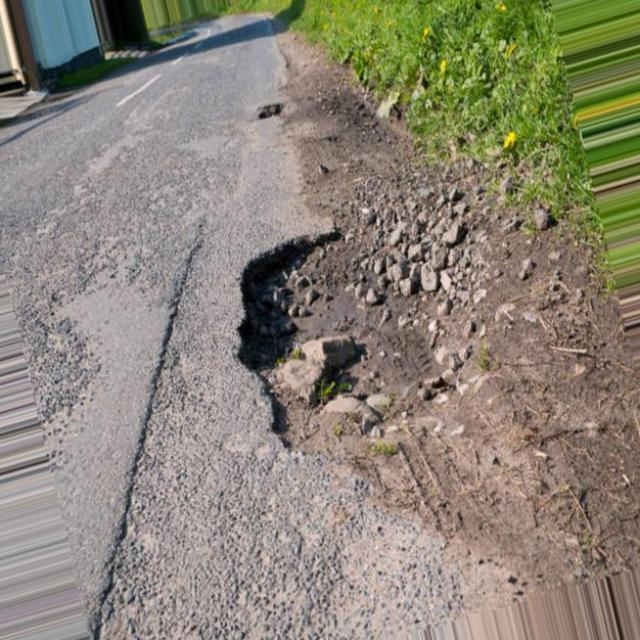Pinggir: (226, 224, 556, 530)
